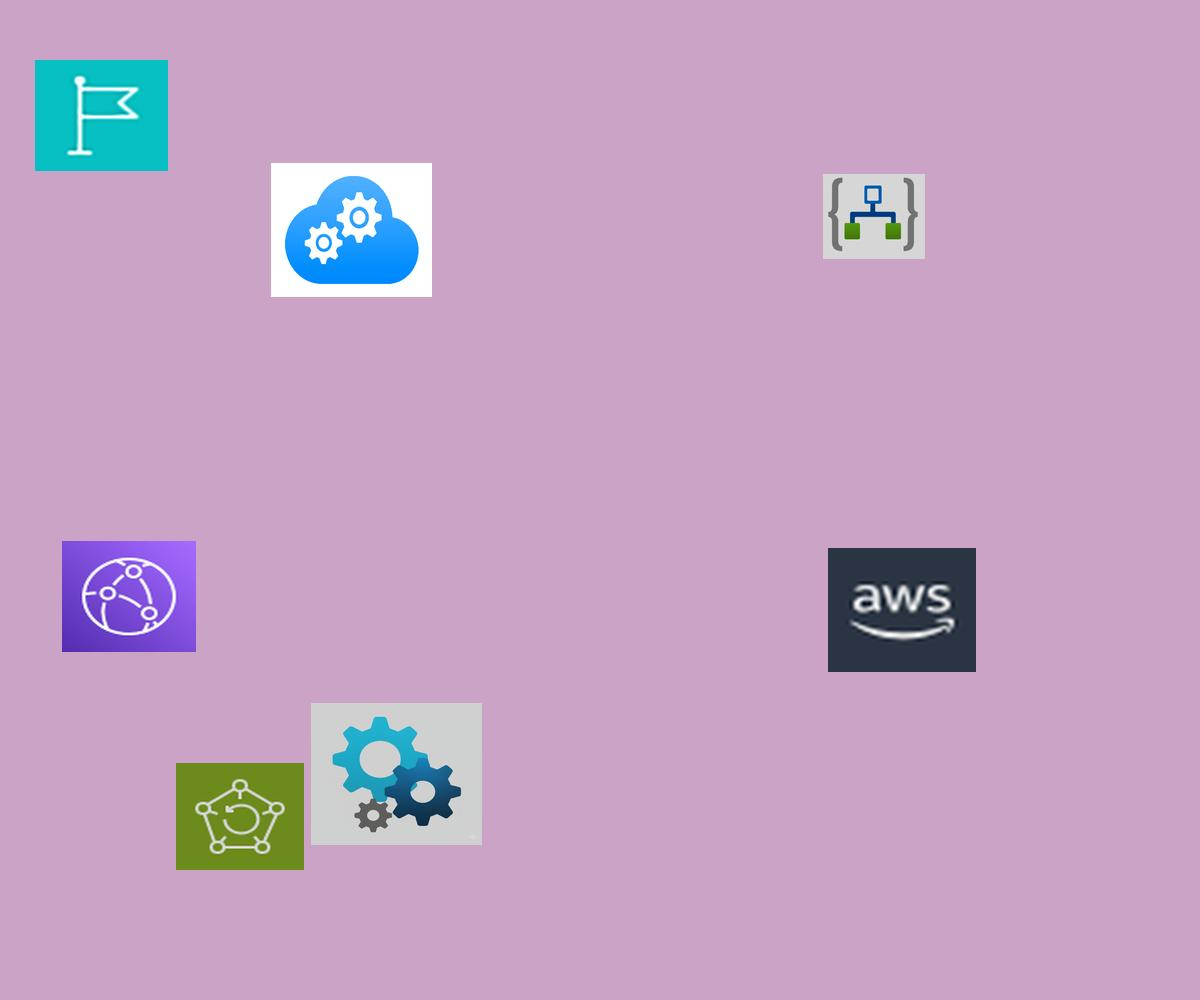AWS-Backup: (176, 763, 304, 870)
AWS-Cloud-logo: (828, 548, 976, 672)
AWS-CloudFront: (62, 541, 196, 652)
AWS-Region: (35, 60, 168, 171)
Azure_api: (311, 703, 482, 845)
Azure_cloud_services: (271, 163, 432, 297)
Azure_integration-204-Logic-Apps: (823, 174, 925, 259)
